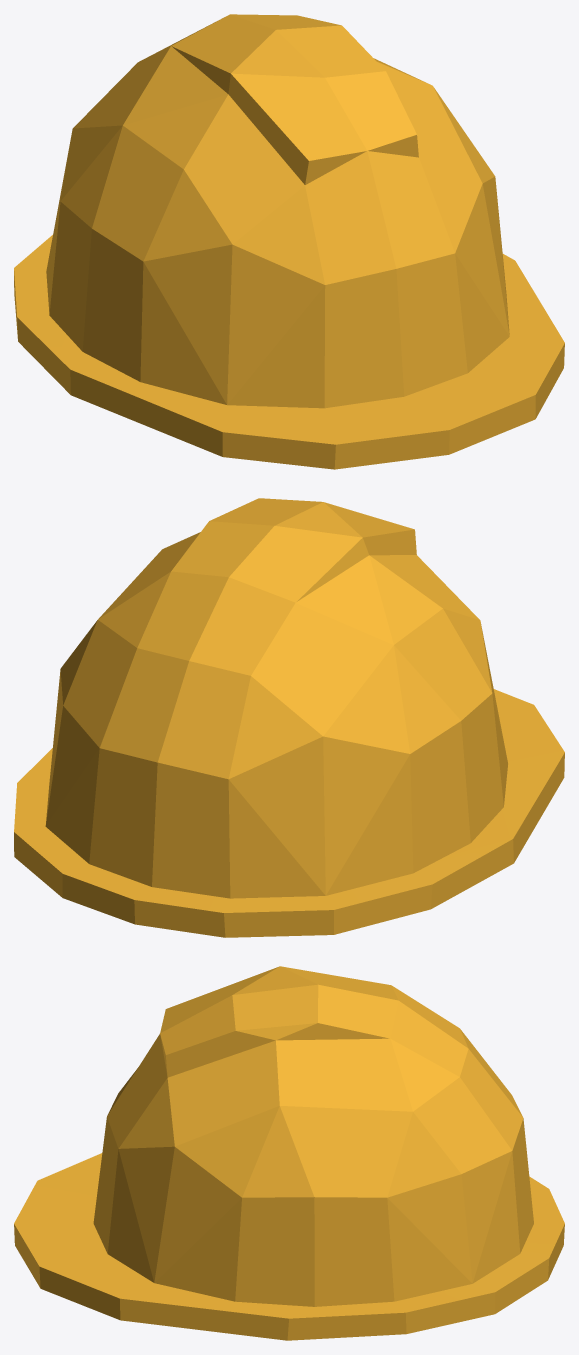
File: hat_hard.glb
3 views of the same model, one above another, from view 1: azimuth 30°, elevation 25°; view 2: azimuth 150°, elevation 25°; view 3: azimuth 270°, elevation 25° (orthographic). The views are drawn at different scales.
Parts seen in each view (by area): view 1: Lp_HardHat01; view 2: Lp_HardHat01; view 3: Lp_HardHat01.
Part boxes in pixels (x1,y1,x2,y2): Lp_HardHat01: (14, 14, 564, 469); Lp_HardHat01: (14, 498, 564, 937); Lp_HardHat01: (14, 966, 564, 1340).
Bounding box in the file's own units: 0.3945 × 0.2522 × 0.4827.
1 material, 1 textured.
